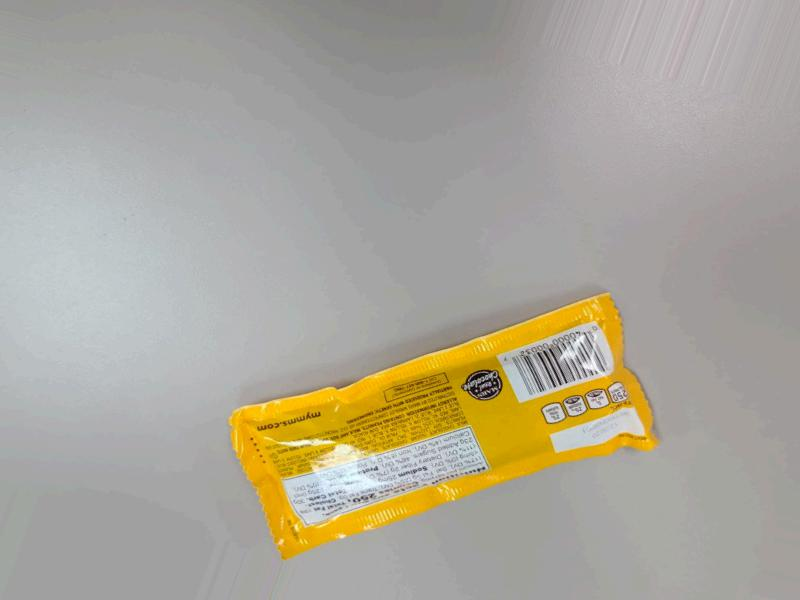m&m: (235, 274, 636, 581)
